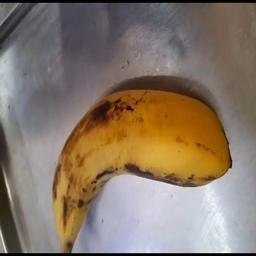Banana Semirotten: (54, 55, 238, 210)
